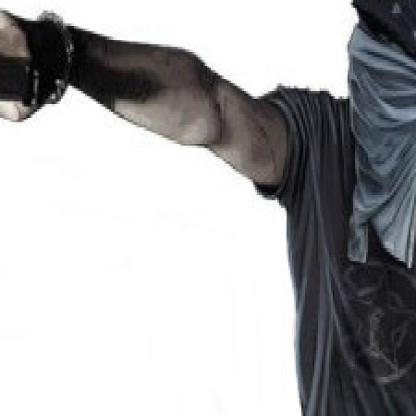gun: (0, 0, 82, 139)
